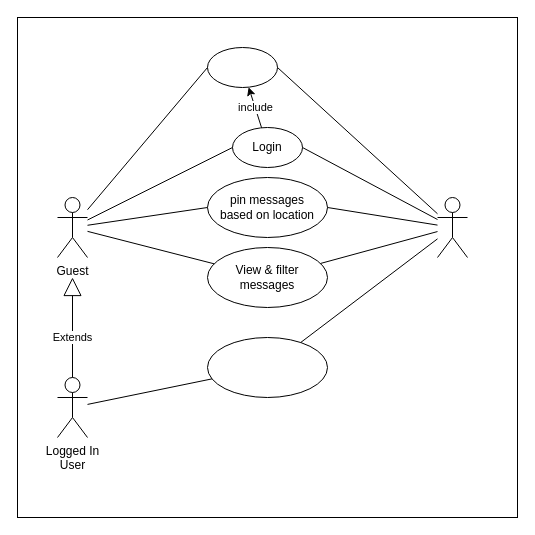
Image size: 535x535. Some labels were removed from this diagram. The shapes that lost their labels are listed below. From the top down, each one's centre as x and y in pixels, then its label:
the point at 242,67: Register
the point at 452,227: AtlasPinz
the point at 267,367: CRUD personal pins
